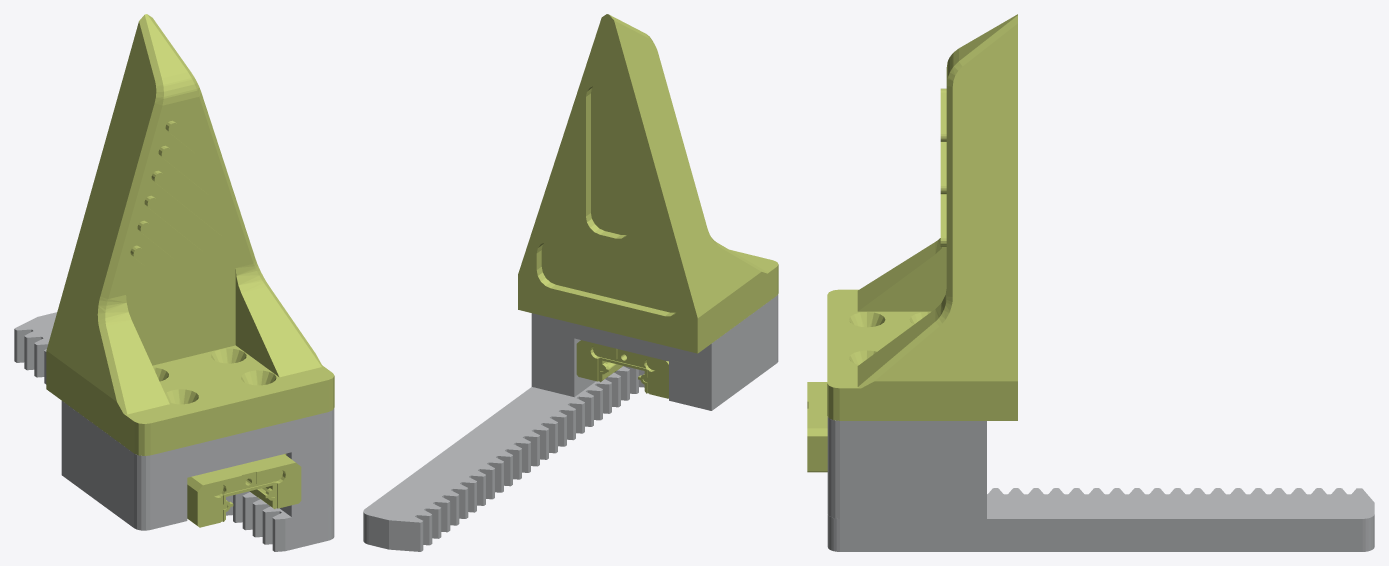
The model's file is gripper_right.glb.
3 views of the same model, side by side, from view 1: azimuth 30°, elevation 25°; view 2: azimuth 150°, elevation 25°; view 3: azimuth 270°, elevation 25° (orthographic). The views are drawn at different scales.
Parts seen in each view (by area): view 1: pla_right, cnc_right; view 2: pla_right, cnc_right; view 3: pla_right, cnc_right.
Part boxes in pixels (x1=…): pla_right: x1=46, y1=14, x2=334, y2=527; cnc_right: x1=14, y1=312, x2=334, y2=551; pla_right: x1=518, y1=14, x2=778, y2=398; cnc_right: x1=363, y1=294, x2=778, y2=551; pla_right: x1=807, y1=14, x2=1017, y2=472; cnc_right: x1=827, y1=416, x2=1374, y2=551.
Bounding box in the file's own units: 0.0384 × 0.0886 × 0.0933.
